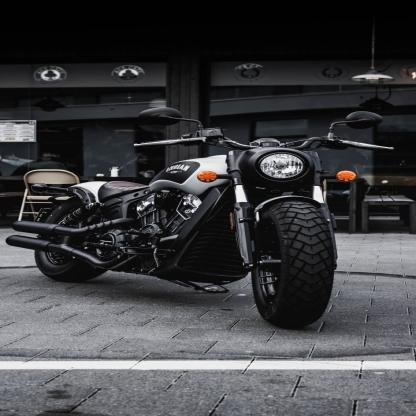bike: (12, 106, 358, 327)
